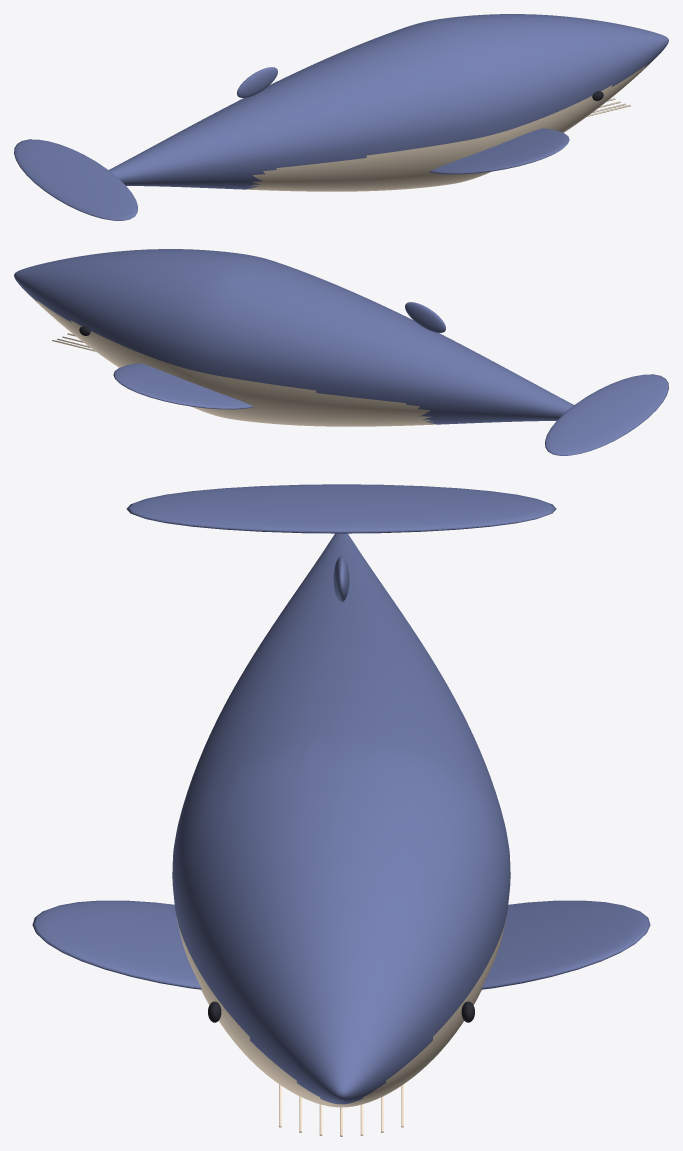
3 renders of one model, top to bottom at view 1: azimuth 30°, elevation 25°; view 2: azimuth 150°, elevation 25°; view 3: azimuth 270°, elevation 25°, orthographic. The views are drawn at different scales.
Visible parts, largest first — view 1: body, flukes, flipperR, dorsal; view 2: body, flukes, flipperL, dorsal; view 3: body, flukes, flipperL, flipperR.
Part boxes in pixels (left/top/right/bottom): body: left=109, top=14, right=668, bottom=191; flukes: left=14, top=139, right=137, bottom=220; flipperR: left=429, top=128, right=569, bottom=174; dorsal: left=237, top=67, right=277, bottom=97; body: left=14, top=249, right=573, bottom=426; flukes: left=545, top=374, right=668, bottom=455; flipperL: left=113, top=363, right=253, bottom=409; dorsal: left=405, top=302, right=445, bottom=332; body: left=172, top=533, right=510, bottom=1107; flukes: left=126, top=484, right=556, bottom=533; flipperL: left=481, top=900, right=650, bottom=989; flipperR: left=32, top=900, right=201, bottom=989.
Size of the model in its own units: 63.6 by 14.81 by 27.3.
